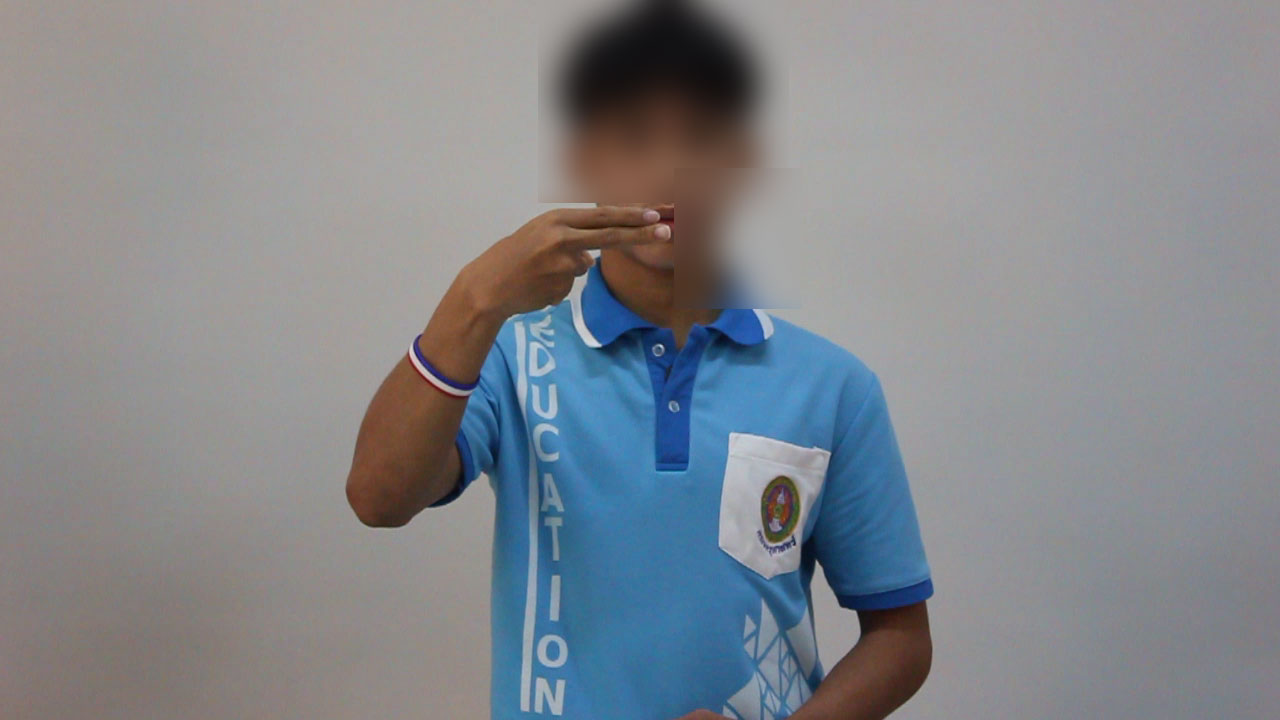hor: (457, 197, 681, 328)
